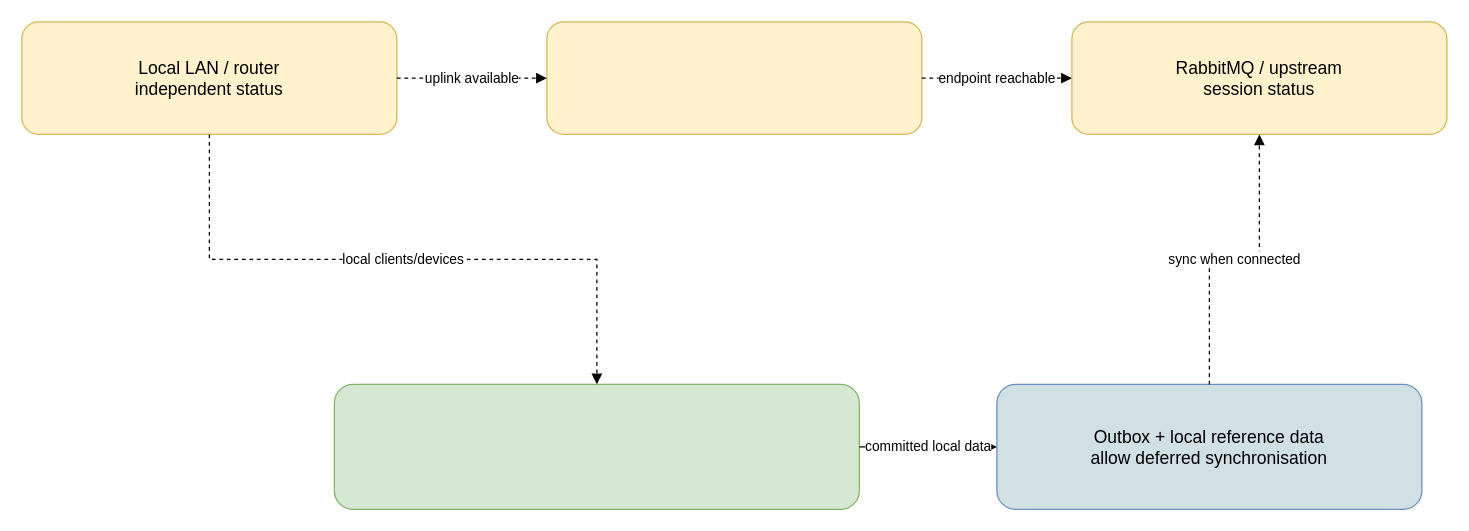
Some shapes in this 1469 by 531 pixel diagram are drawn without their labels. Each missing label, with the box of its shape:
Internet reachability independent status: (546, 21, 922, 134)
SI-01 local timing operation RFID/CAN/in-memory state: (333, 383, 859, 509)
